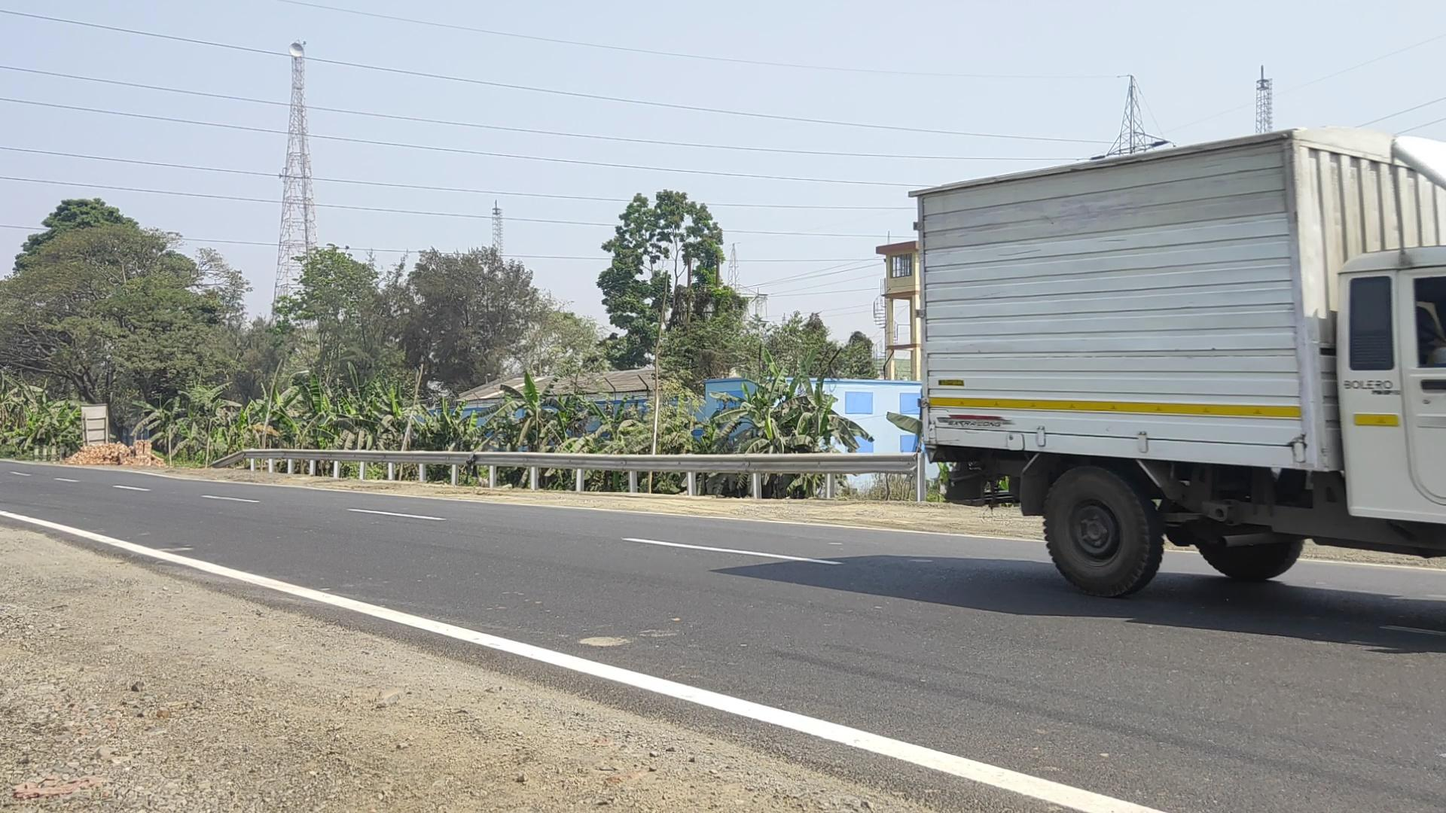van: (908, 126, 1446, 601)
